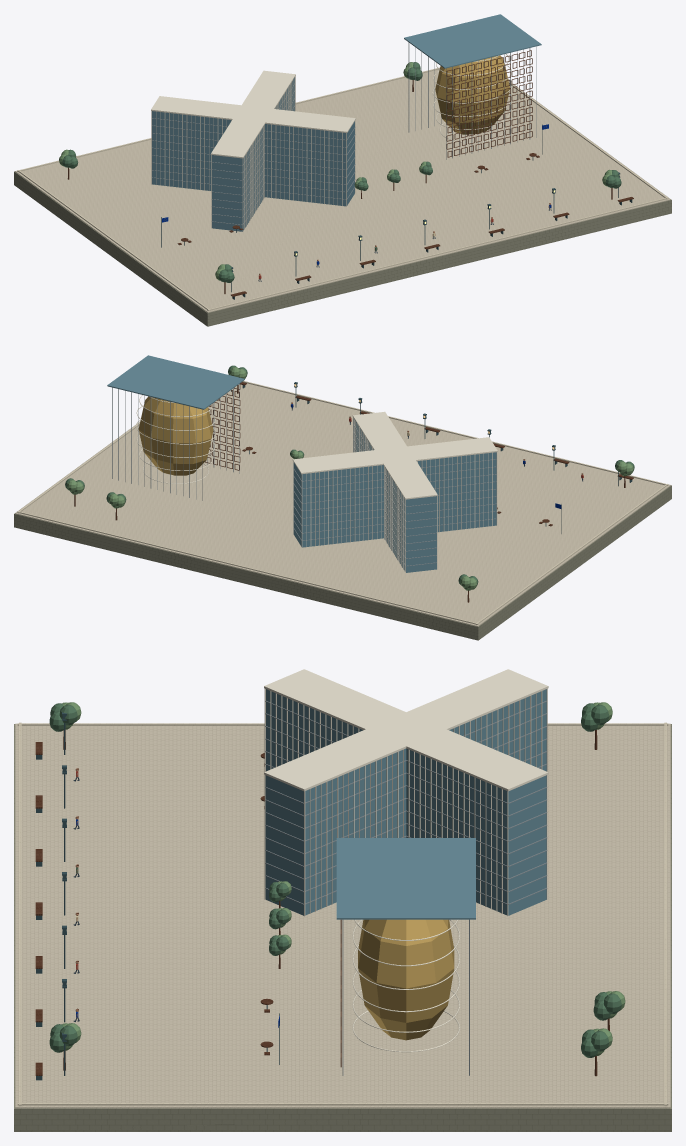
Rendered from bruxelas-reference.glb.
3 views of the same model, one above another, from view 1: azimuth 30°, elevation 25°; view 2: azimuth 150°, elevation 25°; view 3: azimuth 270°, elevation 25° (orthographic). The views are drawn at different scales.
Visible parts, largest first — view 1: bruxelas_arquitetura_Calcada portuguesa, bruxelas_arquitetura_Vidro institucional, bruxelas_arquitetura_Marfim pintado, bruxelas_arquitetura_Corte de terreno, bruxelas_arquitetura_Fachada dourada, bruxelas_arquitetura_Aco polido, bruxelas_arquitetura_Madeira de rabelo, bruxelas_arquitetura_Cantaria clara, bruxelas_arquitetura_Folhagem, bruxelas_arquitetura_Ferro pintado da ponte, bruxelas_arquitetura_Folhagem clara; view 2: bruxelas_arquitetura_Calcada portuguesa, bruxelas_arquitetura_Vidro institucional, bruxelas_arquitetura_Marfim pintado, bruxelas_arquitetura_Corte de terreno, bruxelas_arquitetura_Fachada dourada, bruxelas_arquitetura_Aco polido, bruxelas_arquitetura_Cantaria clara, bruxelas_arquitetura_Madeira de rabelo, bruxelas_arquitetura_Folhagem clara; view 3: bruxelas_arquitetura_Calcada portuguesa, bruxelas_arquitetura_Vidro institucional, bruxelas_arquitetura_Marfim pintado, bruxelas_arquitetura_Corte de terreno, bruxelas_arquitetura_Fachada dourada, bruxelas_arquitetura_Cantaria clara, bruxelas_arquitetura_Aco polido, bruxelas_arquitetura_Folhagem, bruxelas_arquitetura_Madeira de rabelo, bruxelas_arquitetura_Ferro pintado da ponte, bruxelas_arquitetura_Folhagem clara.
Boxes of the visible parts, box(x1,y1,x2,y2) form: bruxelas_arquitetura_Calcada portuguesa: box(15, 69, 670, 312); bruxelas_arquitetura_Vidro institucional: box(152, 14, 541, 231); bruxelas_arquitetura_Marfim pintado: box(151, 54, 512, 231); bruxelas_arquitetura_Corte de terreno: box(14, 171, 671, 326); bruxelas_arquitetura_Fachada dourada: box(435, 55, 509, 134); bruxelas_arquitetura_Aco polido: box(152, 42, 536, 225); bruxelas_arquitetura_Madeira de rabelo: box(67, 50, 633, 296); bruxelas_arquitetura_Cantaria clara: box(17, 67, 668, 311); bruxelas_arquitetura_Folhagem: box(62, 62, 621, 282); bruxelas_arquitetura_Ferro pintado da ponte: box(161, 124, 632, 299); bruxelas_arquitetura_Folhagem clara: box(59, 62, 612, 282); bruxelas_arquitetura_Calcada portuguesa: box(15, 383, 670, 626); bruxelas_arquitetura_Vidro institucional: box(107, 355, 496, 572); bruxelas_arquitetura_Marfim pintado: box(135, 395, 497, 572); bruxelas_arquitetura_Corte de terreno: box(14, 463, 671, 640); bruxelas_arquitetura_Fachada dourada: box(138, 396, 213, 475); bruxelas_arquitetura_Aco polido: box(112, 384, 496, 566); bruxelas_arquitetura_Cantaria clara: box(17, 381, 668, 624); bruxelas_arquitetura_Madeira de rabelo: box(74, 382, 633, 602); bruxelas_arquitetura_Folhagem clara: box(67, 367, 633, 590); bruxelas_arquitetura_Calcada portuguesa: box(15, 723, 670, 1108); bruxelas_arquitetura_Vidro institucional: box(265, 689, 546, 919); bruxelas_arquitetura_Marfim pintado: box(264, 669, 548, 1052); bruxelas_arquitetura_Corte de terreno: box(14, 724, 671, 1131); bruxelas_arquitetura_Fachada dourada: box(358, 919, 454, 1040); bruxelas_arquitetura_Cantaria clara: box(17, 722, 668, 1106); bruxelas_arquitetura_Aco polido: box(265, 689, 547, 1075); bruxelas_arquitetura_Folhagem: box(49, 703, 621, 1057); bruxelas_arquitetura_Madeira de rabelo: box(35, 730, 609, 1076); bruxelas_arquitetura_Ferro pintado da ponte: box(36, 712, 279, 1080); bruxelas_arquitetura_Folhagem clara: box(62, 702, 625, 1055).
Bounding box in the file's own units: 72 × 16.07 × 52.
Materials: 18 (4 with a texture image).
